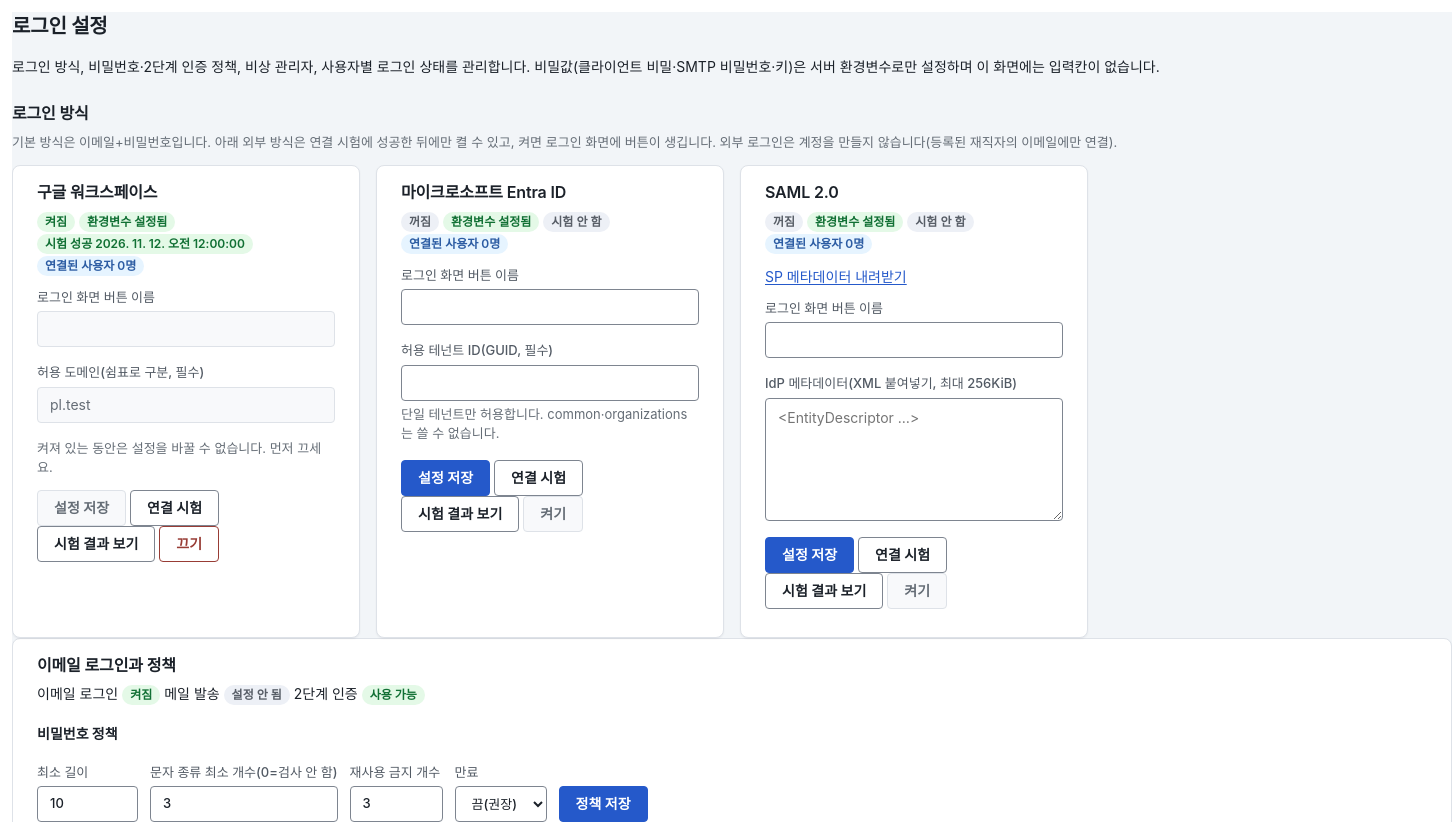
it: 로그인 설정: 방식 카드 › 켜진 방식은 설정을 잠그고 끄기만 보인다. 서버 거부 사유는 그대로 보인다
This screenshot has width=1452, height=822.
Expected: the field labelled "허용 도메인(쉼표로 구분, 필수)" is disabled, [37,386,335,422]
Step 1. Click the button "끄기" → (189, 544), box [159,526,219,562]
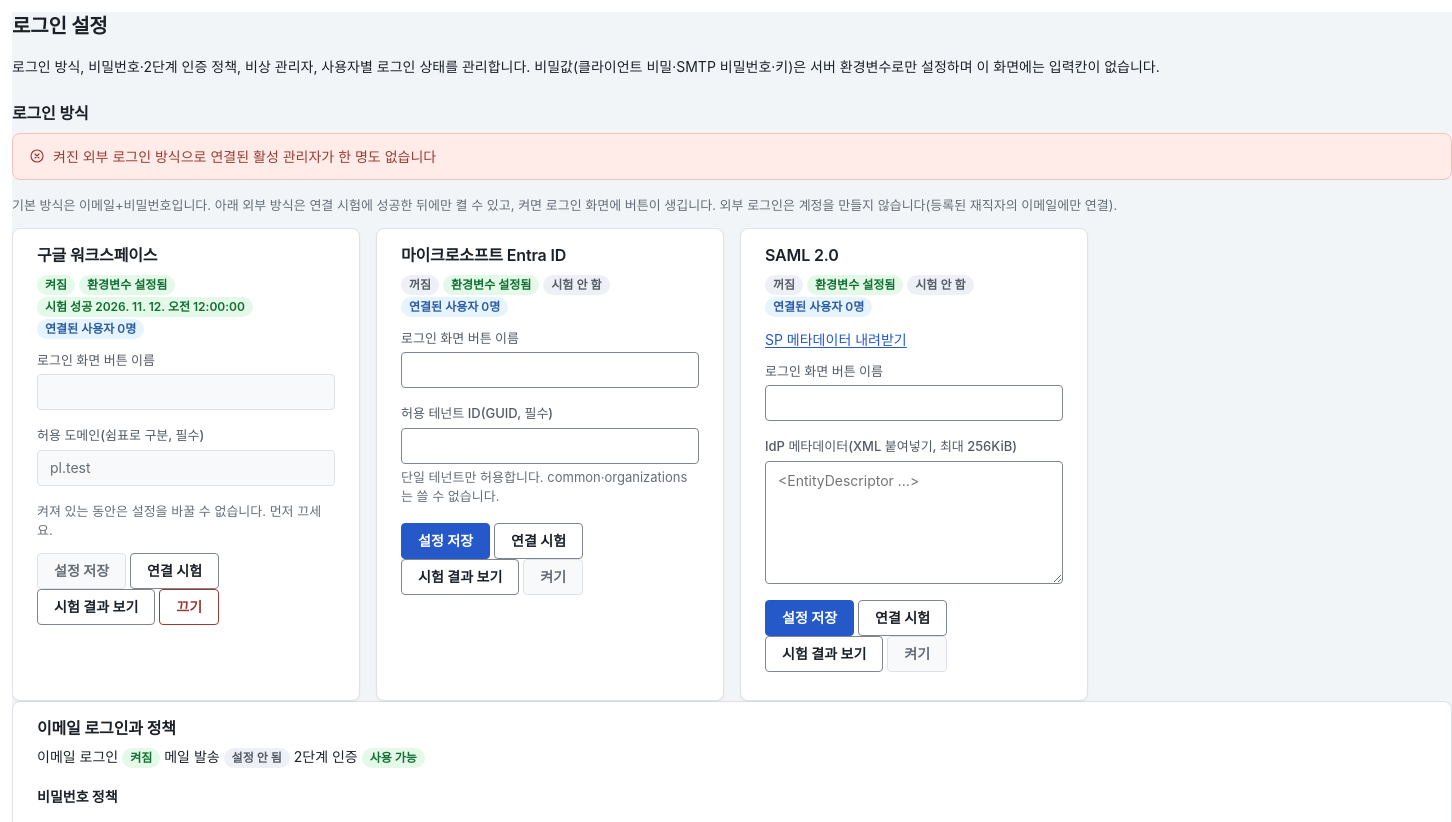
Result: the message shows "연결된 활성 관리자가 한 명도 없습니다" at [53,148,436,165]
